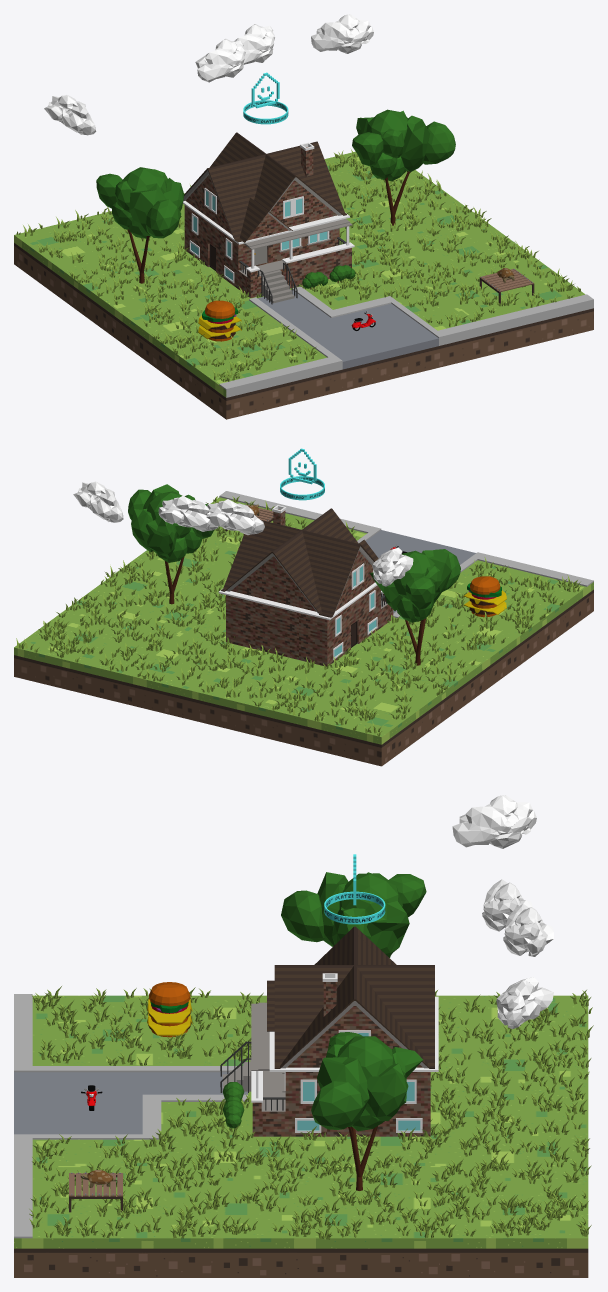
3 renders of one model, top to bottom at view 1: azimuth 30°, elevation 25°; view 2: azimuth 150°, elevation 25°; view 3: azimuth 270°, elevation 25°, orthographic. The views are drawn at different scales.
Parts seen in each view (by area): view 1: Cube.006, Cube.117, Circle.012_Grass_0.192, Cube.007, tree, tree.001, OBJRANDOM_HAMBURGER, TYPE_PREMIUM, Cube.009; view 2: Cube.006, Cube.117, Circle.012_Grass_0.192, Cube.007, tree.001, tree, OBJRANDOM_HAMBURGER, TYPE_PREMIUM; view 3: Cube.006, Circle.012_Grass_0.192, Cube.117, tree, Cube.007, tree.001, OBJRANDOM_HAMBURGER, TYPE_PREMIUM, Cube.009.
Boxes of the visible parts, x1,y1,x2,y2 form: Cube.006: (14,151,593,419); Cube.117: (183,132,354,304); Circle.012_Grass_0.192: (16,149,580,381); Cube.007: (44,14,373,135); tree: (352,109,455,225); tree.001: (96,167,184,283); OBJRANDOM_HAMBURGER: (198,300,241,341); TYPE_PREMIUM: (243,72,288,124); Cube.009: (479,268,534,303); Cube.006: (14,491,593,766); Cube.117: (218,505,393,666); Circle.012_Grass_0.192: (16,496,580,736); Cube.007: (73,481,413,586); tree.001: (370,549,460,665); tree: (128,484,214,604); OBJRANDOM_HAMBURGER: (463,576,506,617); TYPE_PREMIUM: (280,448,324,500); Cube.006: (14,994,588,1277); Circle.012_Grass_0.192: (29,986,593,1239); Cube.117: (220,926,438,1136); tree: (311,1032,422,1190); Cube.007: (452,795,553,1029); tree.001: (281,872,426,957); OBJRANDOM_HAMBURGER: (147,982,192,1037); TYPE_PREMIUM: (324,854,385,924); Cube.009: (69,1172,122,1212).
Bounding box in the file's own units: 4071 × 2401 × 4040.
Materials: 40 (5 with a texture image).
